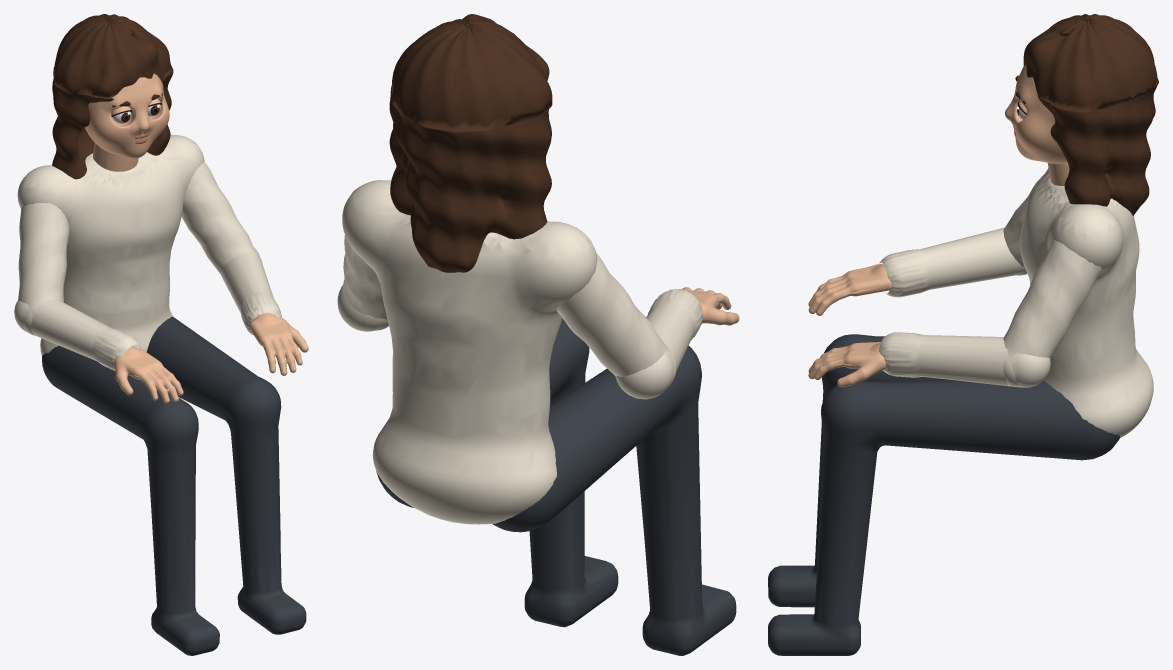
File: maya.glb
3 views of the same model, side by side, from view 1: azimuth 30°, elevation 25°; view 2: azimuth 150°, elevation 25°; view 3: azimuth 270°, elevation 25° (orthographic). The views are drawn at different scales.
Parts seen in each view (by area): view 1: legs, torso, hair_wavy, upper_arm (×2), forearm (×2), hand (×2), head_soft, neck, head; view 2: torso, legs, hair_wavy, upper_arm (×2), forearm (×2), hand; view 3: legs, hair_wavy, torso, forearm (×2), upper_arm (×2), hand (×2), head_soft.
Part boxes in pixels (x1,y1,x2,y2): legs: (42, 317, 306, 655); torso: (17, 135, 204, 355); hair_wavy: (52, 14, 173, 179); upper_arm (×2): (18, 162, 262, 335); forearm (×2): (14, 247, 281, 370); hand (×2): (114, 313, 308, 403); head_soft: (85, 73, 169, 158); neck: (92, 143, 138, 171); head: (111, 98, 161, 123); torso: (342, 180, 597, 524); legs: (376, 318, 736, 655); hair_wavy: (389, 14, 552, 272); upper_arm (×2): (342, 235, 676, 386); forearm (×2): (337, 285, 703, 399); hand: (679, 287, 739, 325); legs: (768, 334, 1120, 655); hair_wavy: (1023, 14, 1158, 215); torso: (1020, 172, 1153, 437); forearm (×2): (879, 227, 1050, 387); upper_arm (×2): (1003, 168, 1101, 386); hand (×2): (808, 264, 892, 387); head_soft: (1005, 65, 1067, 163).
Bounding box in the file's own units: 0.7021 × 1.46 × 0.8546.
Materials: 12 (1 with a texture image).
